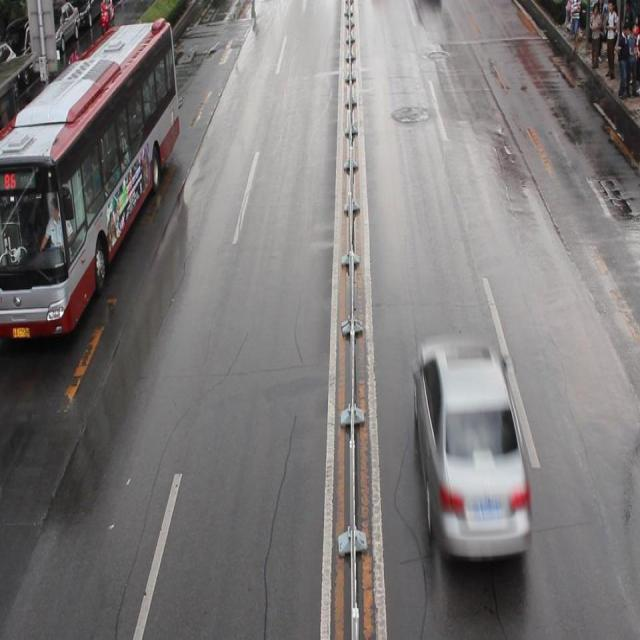car: (412, 339, 530, 556)
van: (1, 16, 179, 340)
